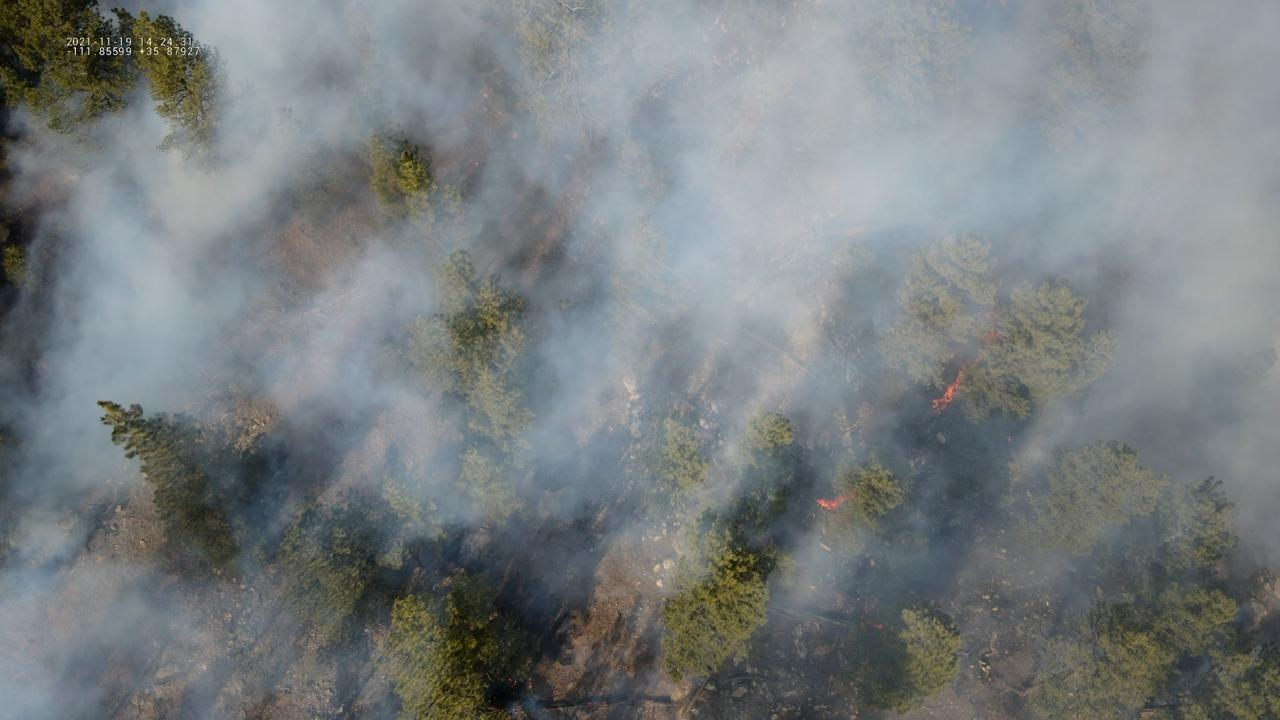fire: (929, 366, 967, 417), (813, 490, 855, 511), (983, 328, 1004, 345), (974, 353, 985, 364)
smoke: (0, 0, 1280, 720)
